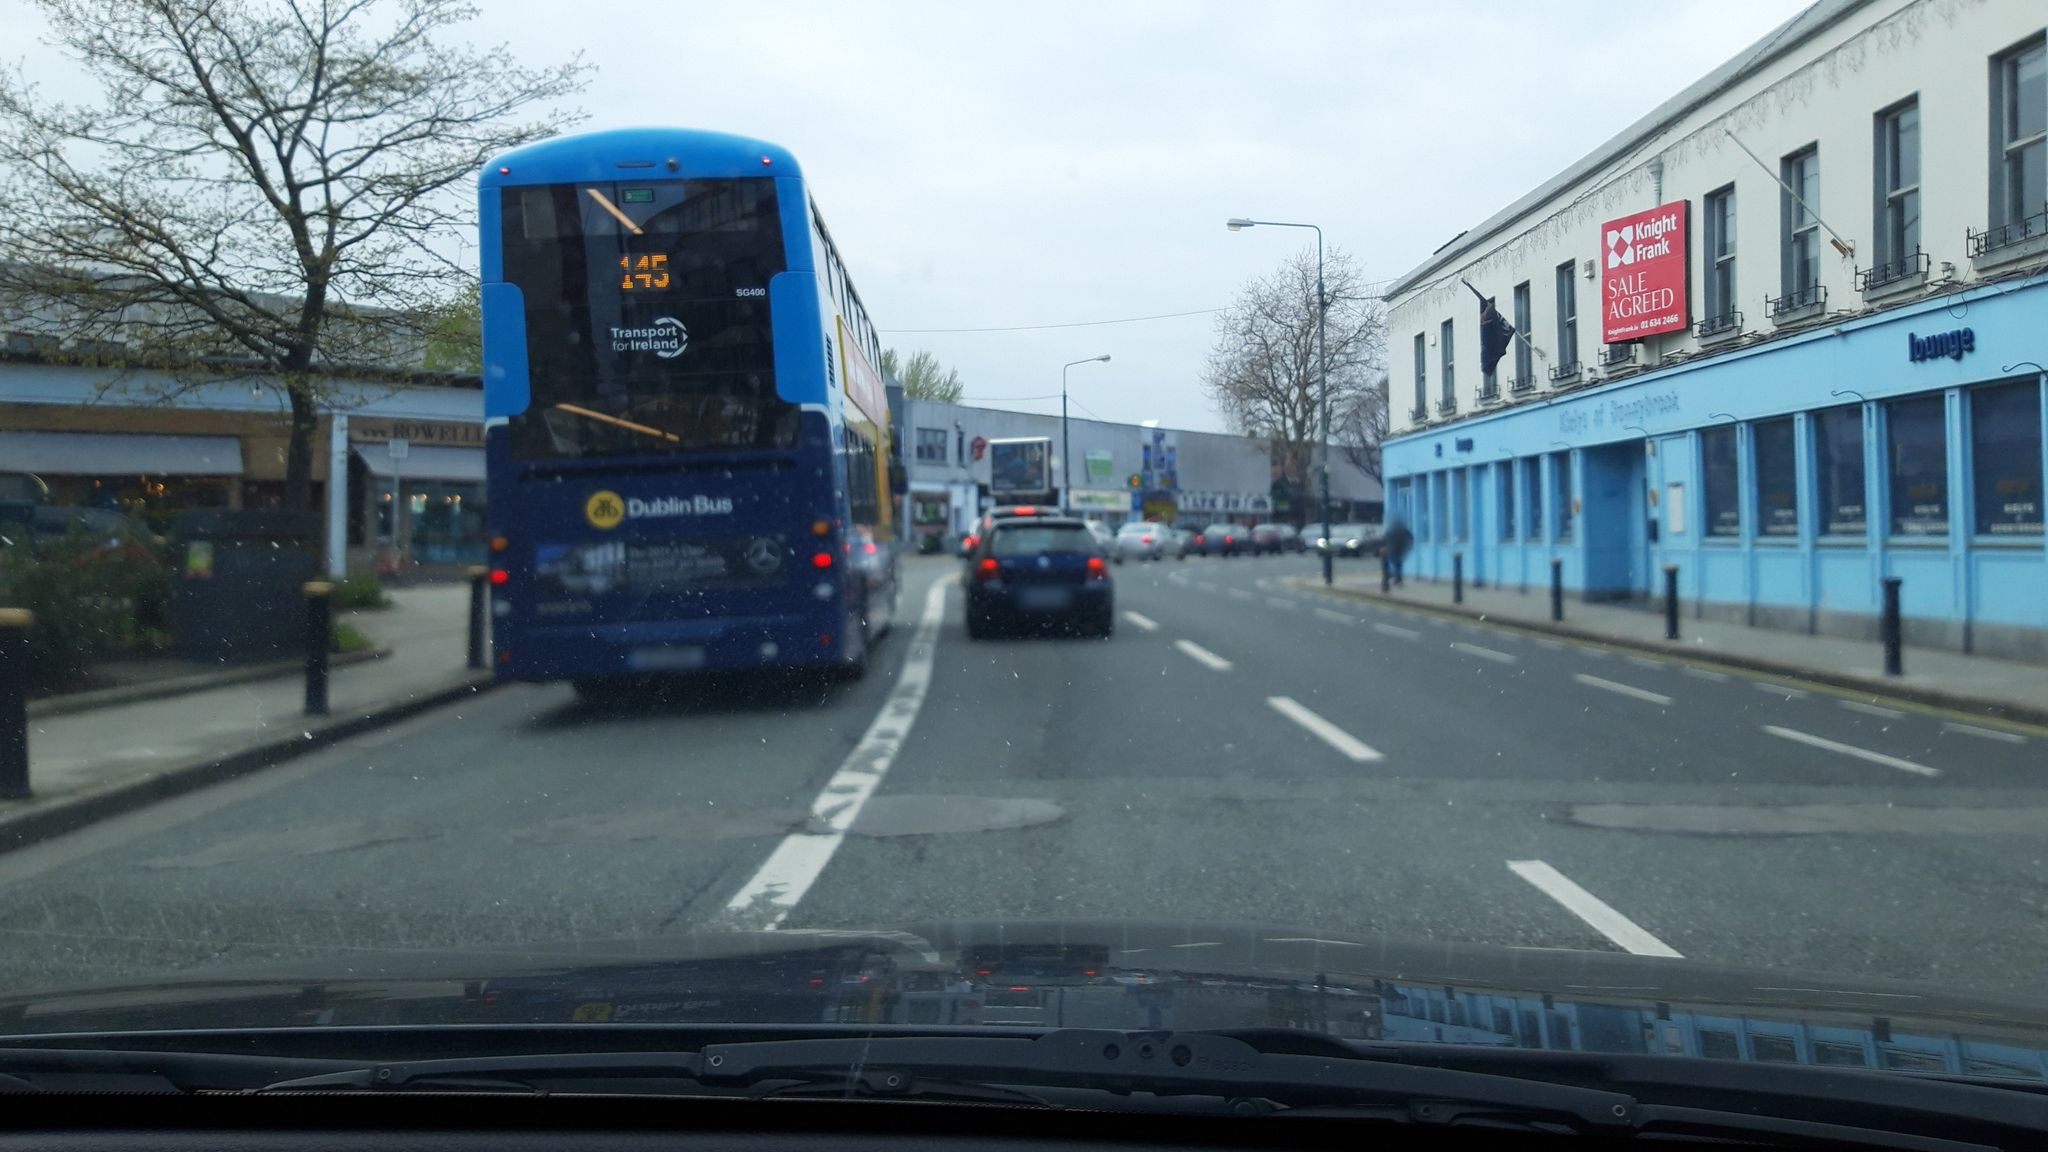property sign: (1596, 203, 1699, 352)
